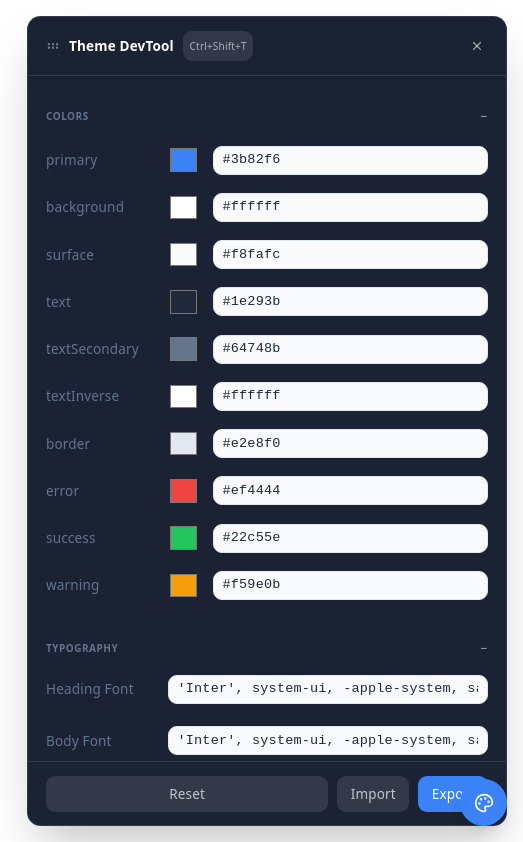
Test: ThemeDevToolPanel › closes when close button is clicked
Click the button named "close" at (476, 46), box [465,34,488,57]
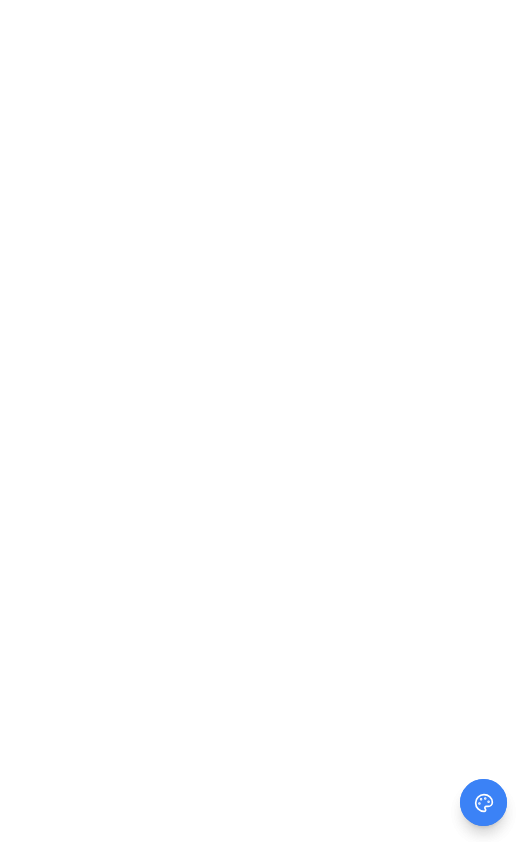
Result: the text "Theme DevTool" is gone
